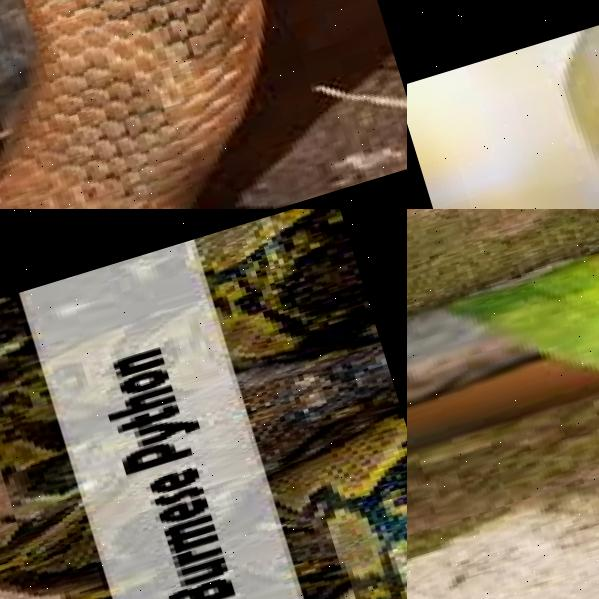snake: (0, 209, 407, 599), (0, 0, 407, 209), (439, 209, 599, 546), (496, 0, 599, 209)
